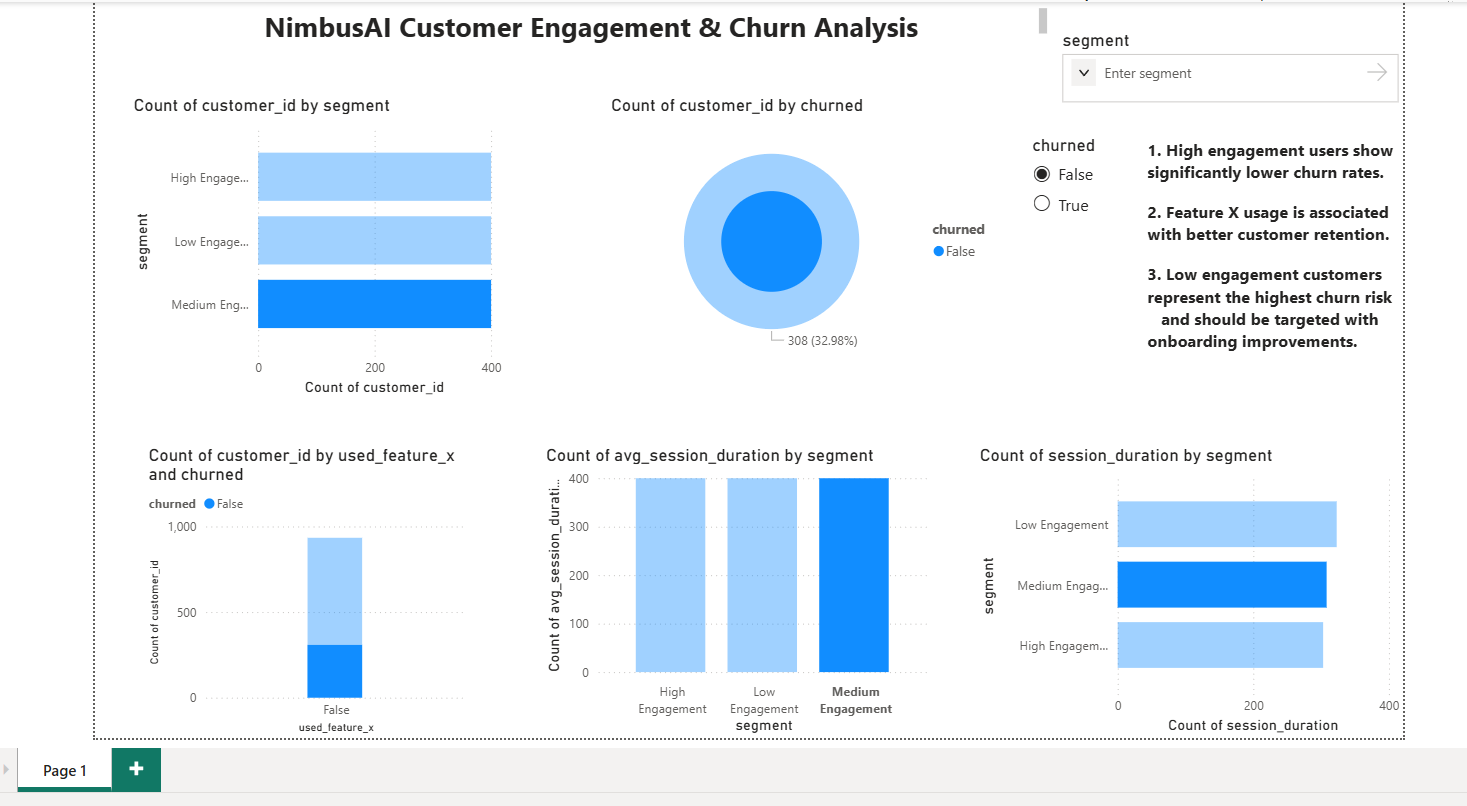

Layout of this report page (visuals, bound fields, positions):
{"tool":"powerbi","page":{"name":"Page 1","canvas":[1280,720],"ordinal":0},"visuals":[{"type":"clusteredBarChart","fields":{"Y":["CountNonNull(customer_segments.customer_id)"],"Category":["customer_segments.segment"]},"box":[32.8,90.8,369.6,299],"z":0},{"type":"pieChart","fields":{"Category":["merged_customer_data.churned"],"Y":["CountNonNull(merged_customer_data.customer_id)"]},"box":[499.6,90.8,394.9,268.7],"z":1000},{"type":"columnChart","fields":{"Category":["merged_customer_data.used_feature_x"],"Series":["merged_customer_data.churned"],"Y":["CountNonNull(merged_customer_data.customer_id)"]},"box":[47.9,432.7,320.4,287.6],"z":2000},{"type":"clusteredColumnChart","fields":{"Category":["customer_segments.segment"],"Y":["CountNonNull(customer_segments.avg_session_duration)"]},"box":[436.5,432.7,384.8,287.6],"z":3000},{"type":"clusteredBarChart","fields":{"Category":["customer_segments.segment"],"Y":["CountNonNull(merged_customer_data.session_duration)"]},"box":[860.4,432.7,420.1,287.6],"z":4000},{"type":"textSlicer","fields":{"Values":["customer_segments.segment"]},"box":[941.6,26.9,338.7,75.8],"z":5000},{"type":"listSlicer","fields":{"Values":["merged_customer_data.churned"]},"box":[912.2,129.6,97.8,260.5],"z":5001},{"type":"textbox","box":[160.2,1.3,775.9,51.7],"z":5002},{"type":"textbox","box":[1024.7,128.4,255.6,231.1],"z":5003}]}

Visuals, with their boxes on the page's 1280x720 design canvas (x1, y1, x2, y2). These are canvas units, not pixel positions in the 1467x806 screenshot, which may show the page scaled, cropped or inside an application window:
clusteredBarChart - CountNonNull(customer_segments.customer_id) x customer_segments.segment: (33, 91, 402, 390)
pieChart - merged_customer_data.churned x CountNonNull(merged_customer_data.customer_id): (500, 91, 894, 360)
columnChart - merged_customer_data.used_feature_x x merged_customer_data.churned: (48, 433, 368, 720)
clusteredColumnChart - customer_segments.segment x CountNonNull(customer_segments.avg_session_duration): (436, 433, 821, 720)
clusteredBarChart - customer_segments.segment x CountNonNull(merged_customer_data.session_duration): (860, 433, 1280, 720)
textSlicer - customer_segments.segment: (942, 27, 1280, 103)
listSlicer - merged_customer_data.churned: (912, 130, 1010, 390)
textbox: (160, 1, 936, 53)
textbox: (1025, 128, 1280, 360)
